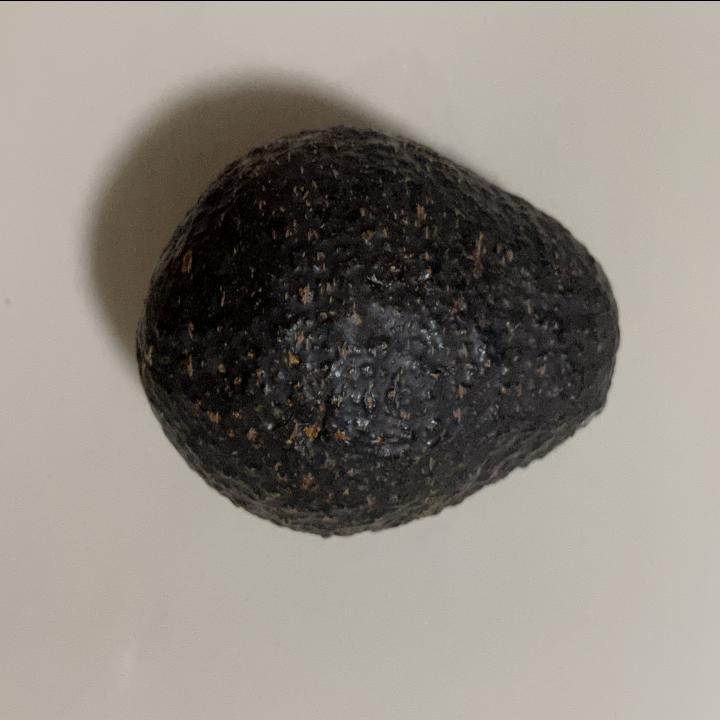Level2: (128, 112, 632, 550)
